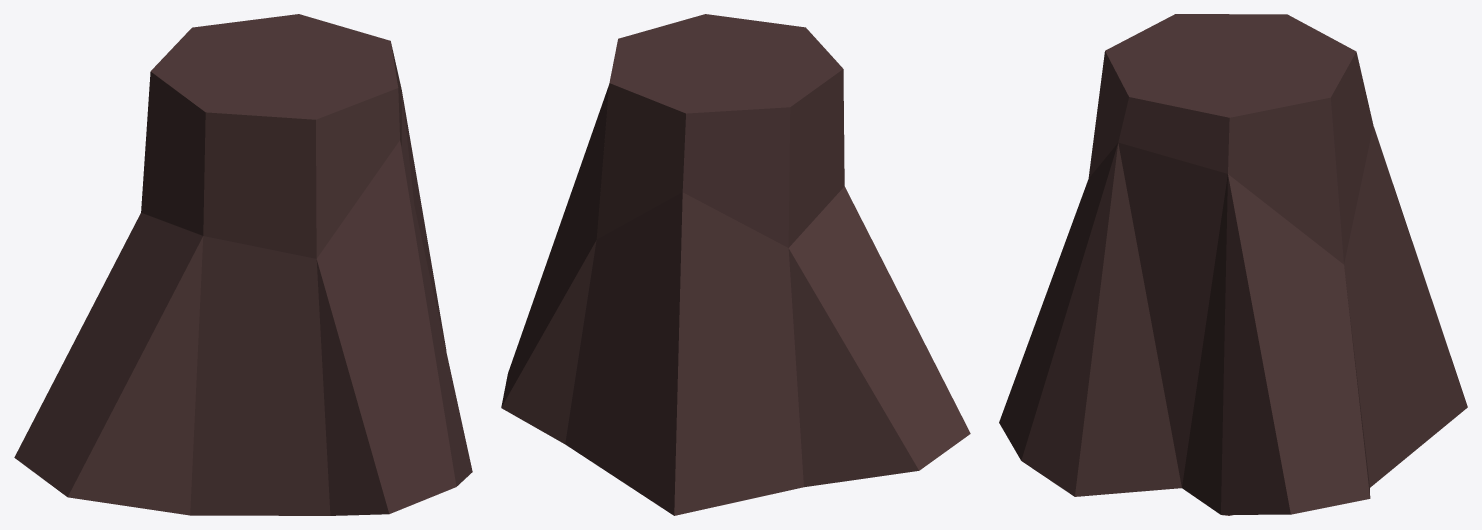
Rendered from DarkRoseWoodDecorationSmallTreeStump1.fbx.
The picture shows the model from 3 angles, left to right: view 1: azimuth 30°, elevation 25°; view 2: azimuth 150°, elevation 25°; view 3: azimuth 270°, elevation 25°; orthographic projection. The views are drawn at different scales.
Visible parts, largest first — view 1: DarkRoseWoodDecorationSmallTreeStump1; view 2: DarkRoseWoodDecorationSmallTreeStump1; view 3: DarkRoseWoodDecorationSmallTreeStump1.
Boxes of the visible parts, bbox=[...] form: DarkRoseWoodDecorationSmallTreeStump1: bbox=[14, 14, 472, 515]; DarkRoseWoodDecorationSmallTreeStump1: bbox=[501, 14, 970, 515]; DarkRoseWoodDecorationSmallTreeStump1: bbox=[999, 14, 1467, 515].
Size of the model in its own units: 200 by 165 by 186.
